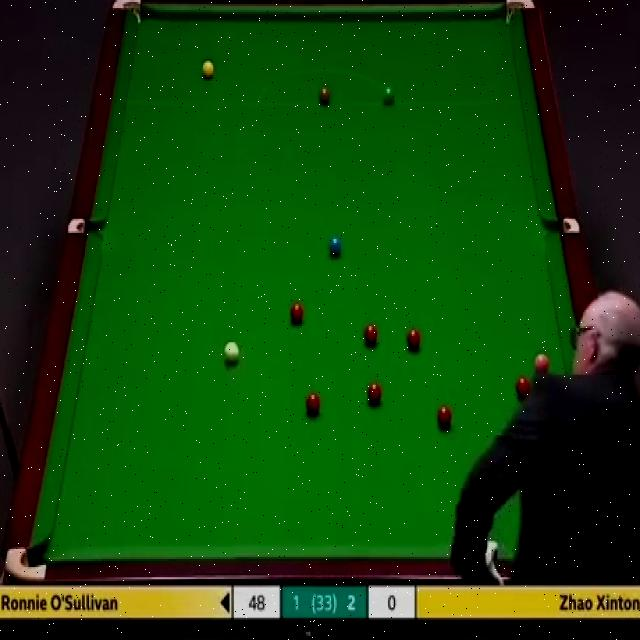blue-ball: (329, 232, 342, 259)
brown-ball: (318, 86, 332, 104)
green-ball: (381, 83, 396, 106)
pink-ball: (534, 355, 549, 374)
red-ball: (436, 404, 453, 432), (305, 391, 322, 417), (366, 380, 381, 406), (514, 376, 532, 397), (362, 323, 378, 346), (407, 326, 421, 351), (290, 300, 304, 322)
white-ball: (224, 342, 241, 367)
yellow-ball: (202, 61, 215, 80)
